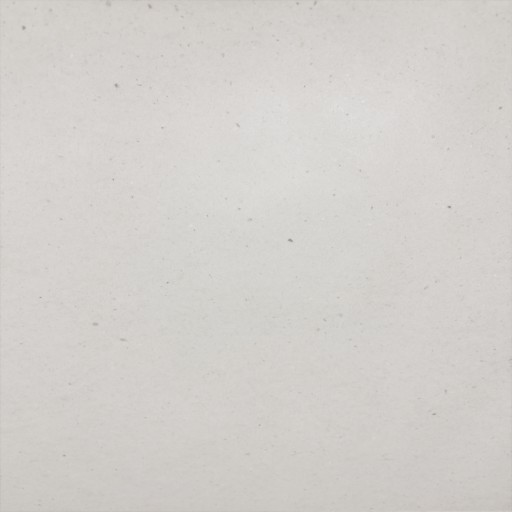lego: (238, 244, 275, 270)
